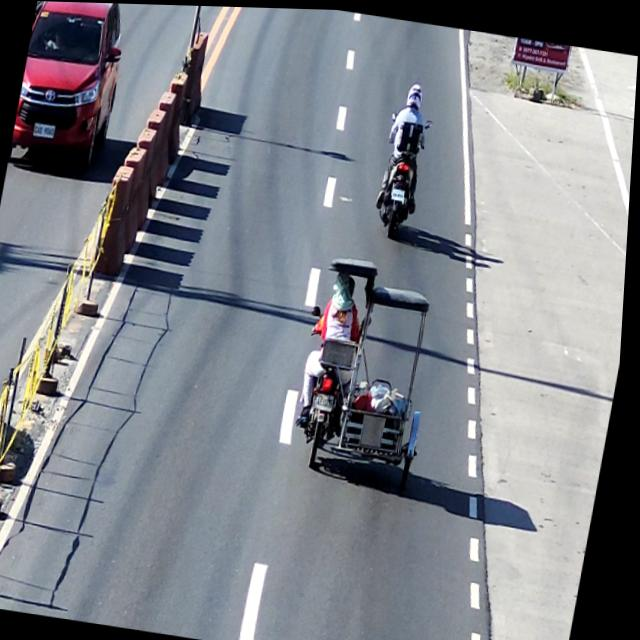Car: (9, 0, 139, 177)
License-Plate: (29, 116, 62, 147), (314, 384, 344, 418), (390, 182, 411, 205)
Motorcycle: (362, 62, 447, 255)
Tricycle: (282, 243, 459, 495)
